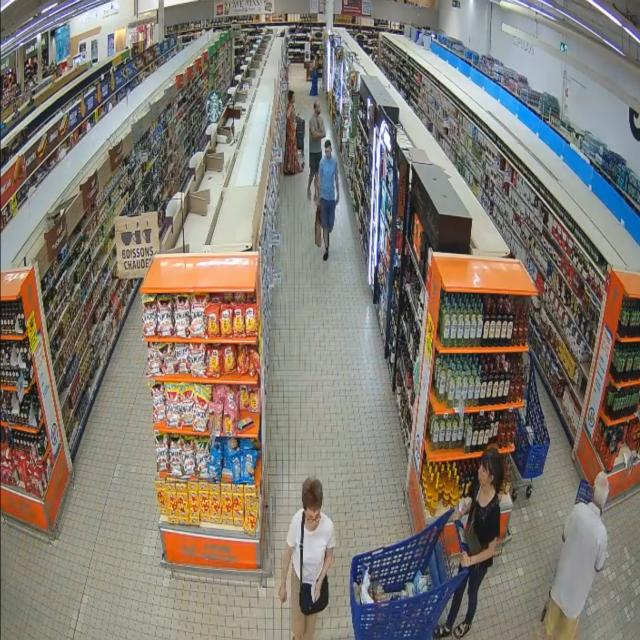bags: (300, 511, 328, 615), (465, 497, 483, 556), (315, 204, 322, 247)
hands: (312, 576, 324, 602), (461, 553, 471, 568), (279, 583, 286, 603), (452, 509, 461, 521), (319, 128, 326, 139), (315, 198, 321, 206), (336, 193, 339, 205)
person: (434, 448, 503, 638), (544, 473, 608, 639), (279, 478, 335, 639), (319, 140, 339, 260), (308, 100, 325, 199), (284, 90, 301, 174)
